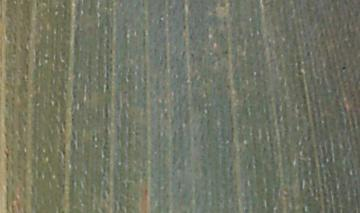tarspot: (305, 49, 312, 58), (157, 15, 164, 24), (340, 64, 347, 72), (223, 48, 230, 56), (294, 102, 301, 110), (61, 149, 67, 158), (104, 82, 110, 91), (182, 23, 188, 31), (189, 51, 195, 59)
